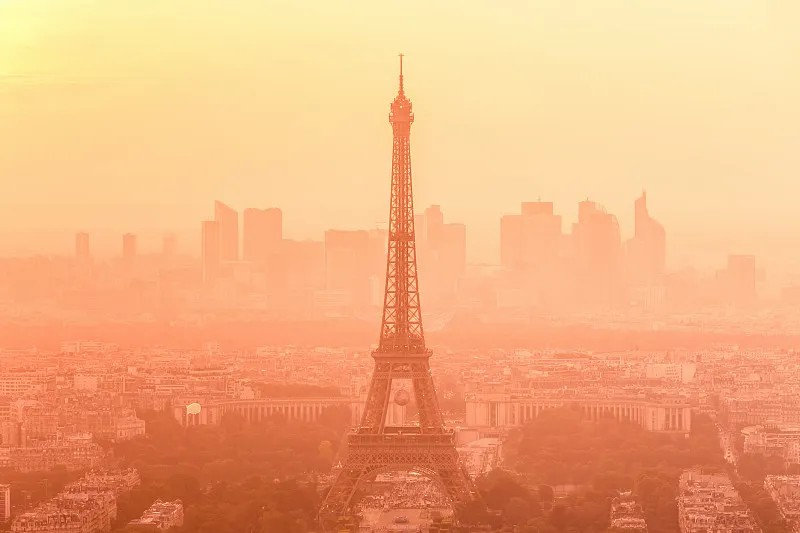Eiffel: (314, 53, 487, 527)
